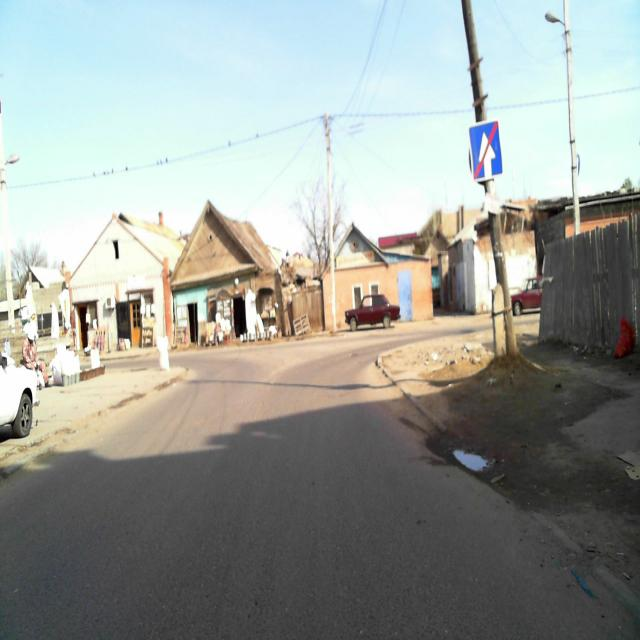road sign: (470, 119, 503, 182)
